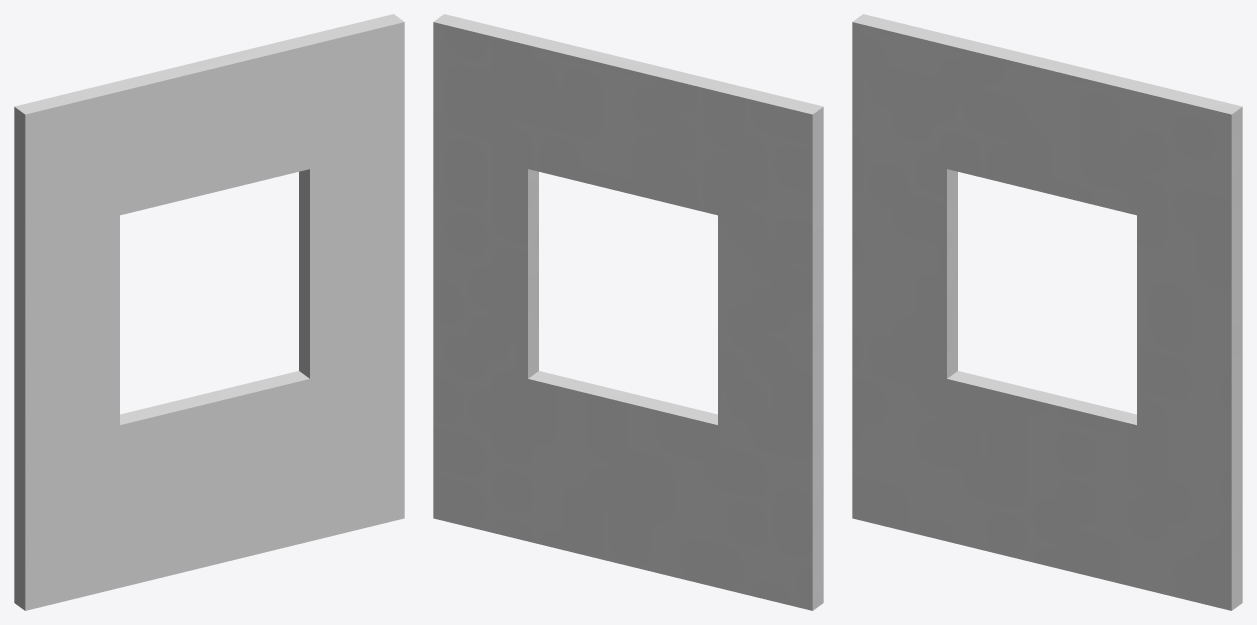
Rendered from Wall_02_Window.fbx.
The picture shows the model from 3 angles, left to right: view 1: azimuth 30°, elevation 25°; view 2: azimuth 150°, elevation 25°; view 3: azimuth 330°, elevation 25°; orthographic projection.
Parts seen in each view (by area): view 1: Wall_02_Window; view 2: Wall_02_Window; view 3: Wall_02_Window.
Part boxes in pixels (x1,y1,x2,y2): Wall_02_Window: (14, 14, 404, 610); Wall_02_Window: (433, 14, 823, 610); Wall_02_Window: (852, 14, 1242, 610).
Size of the model in its own units: 2 by 2.5 by 0.1.
